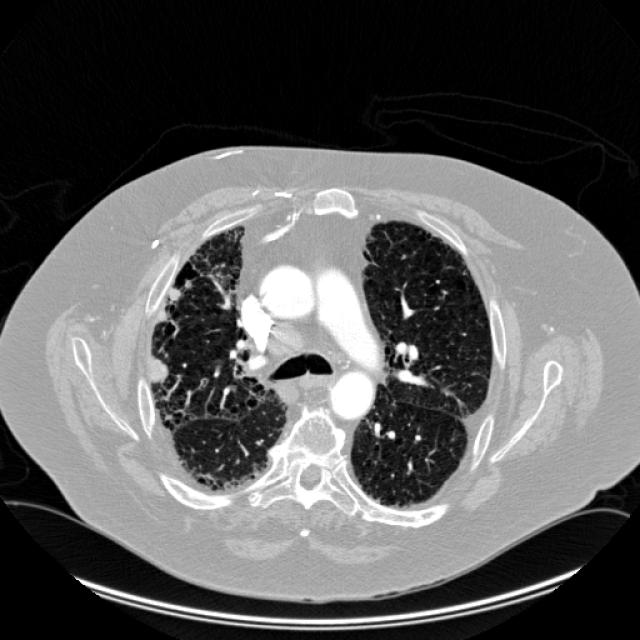nodule: (152, 282, 186, 318)
